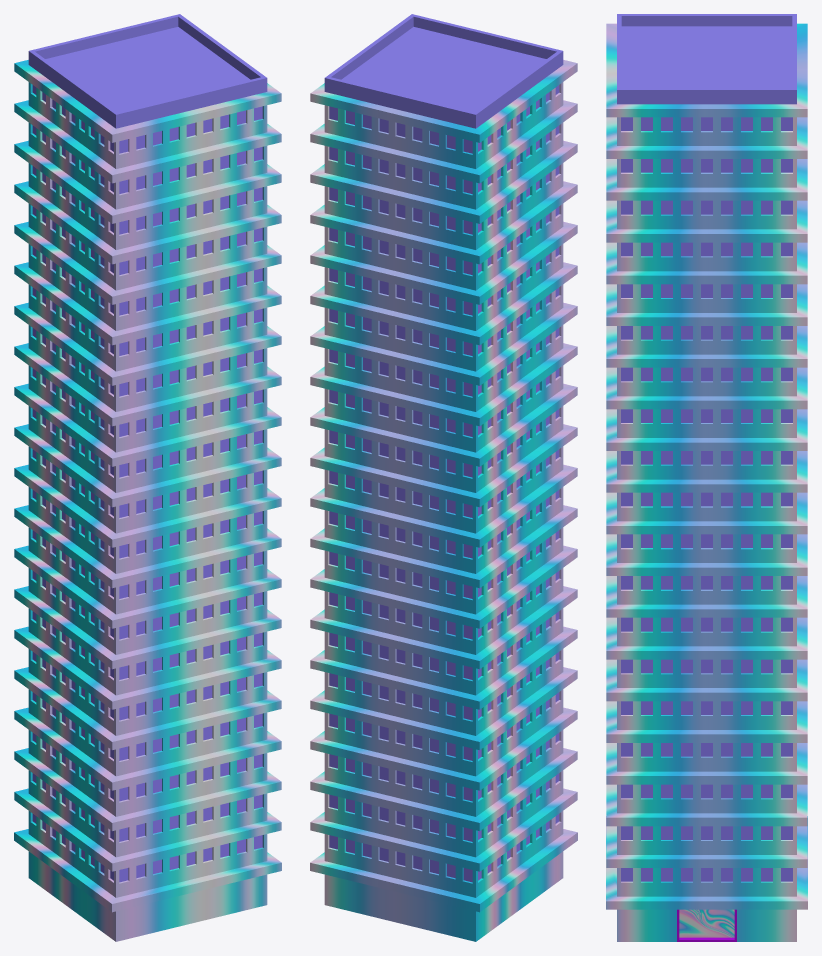
Rendered from building.glb.
3 views of the same model, side by side, from view 1: azimuth 30°, elevation 25°; view 2: azimuth 150°, elevation 25°; view 3: azimuth 270°, elevation 25° (orthographic). The views are drawn at different scales.
Visible parts, largest first — view 1: Plane.001, Plane.002, Plane; view 2: Plane.001, Plane.002, Plane; view 3: Plane.001, Plane.002, Plane, Plane.004, Plane.003.
Boxes of the visible parts, left/top/right/bottom form: Plane.001: left=14, top=60, right=281, bottom=897; Plane.002: left=28, top=14, right=267, bottom=128; Plane: left=14, top=829, right=281, bottom=941; Plane.001: left=310, top=60, right=577, bottom=897; Plane.002: left=324, top=14, right=563, bottom=128; Plane: left=310, top=829, right=577, bottom=941; Plane.001: left=606, top=23, right=807, bottom=896; Plane.002: left=617, top=14, right=796, bottom=104; Plane: left=606, top=816, right=807, bottom=941; Plane.004: left=679, top=909, right=734, bottom=937; Plane.003: left=677, top=909, right=736, bottom=941.
Bounding box in the file's own units: 2.24 × 10.45 × 2.24.
6 materials, 2 textured.
